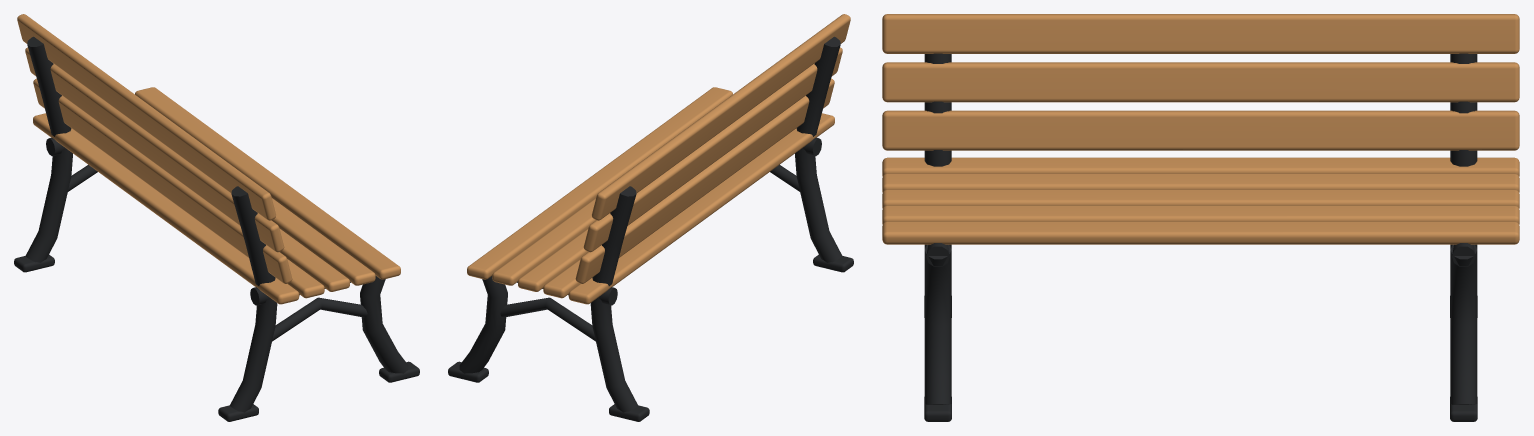
Rendered from street_bench.glb.
3 views of the same model, side by side, from view 1: azimuth 30°, elevation 25°; view 2: azimuth 150°, elevation 25°; view 3: azimuth 270°, elevation 25° (orthographic). The views are drawn at different scales.
Visible parts, largest first — view 1: Back2, Seat4, Back0, Seat0, Back1, BackLeg0.66, BackLeg-0.66, Seat3, Leg-0.66, Seat2, Brace-0.66, Seat1 (+3 smaller); view 2: Back2, Seat4, Back0, Seat0, Back1, BackLeg-0.66, BackLeg0.66, Seat3, Leg0.66, Seat2, Brace0.66, Seat1 (+3 smaller); view 3: Back1, Back0, Back2, Seat4, Seat1, Seat2, Seat3, Seat0, Leg0.66, Leg-0.66, BackLeg0.66, BackLeg-0.66.
Boxes of the visible parts, <box> form: Back2: <box>17,14,275,220</box>; Seat4: <box>135,87,400,279</box>; Back0: <box>33,78,292,283</box>; Seat0: <box>33,113,299,304</box>; Back1: <box>25,47,284,252</box>; BackLeg0.66: <box>25,36,72,262</box>; BackLeg-0.66: <box>230,186,277,412</box>; Seat3: <box>271,198,375,285</box>; Leg-0.66: <box>360,276,408,373</box>; Seat2: <box>279,228,349,291</box>; Brace-0.66: <box>272,297,367,341</box>; Seat1: <box>287,259,324,298</box>; Back2: <box>592,14,850,220</box>; Seat4: <box>467,87,732,279</box>; Back0: <box>575,78,834,283</box>; Seat0: <box>568,113,834,304</box>; Back1: <box>583,47,842,252</box>; BackLeg-0.66: <box>795,36,842,262</box>; BackLeg0.66: <box>590,186,637,412</box>; Seat3: <box>492,198,596,285</box>; Leg0.66: <box>459,276,507,373</box>; Seat2: <box>518,228,588,291</box>; Brace0.66: <box>500,297,595,341</box>; Seat1: <box>543,259,580,298</box>; Back1: <box>882,62,1519,102</box>; Back0: <box>882,110,1519,150</box>; Back2: <box>882,14,1519,53</box>; Seat4: <box>882,221,1519,244</box>; Seat1: <box>882,173,1519,192</box>; Seat2: <box>882,189,1519,208</box>; Seat3: <box>882,205,1519,224</box>; Seat0: <box>882,157,1519,176</box>; Leg0.66: <box>1450,244,1477,404</box>; Leg-0.66: <box>924,244,951,404</box>; BackLeg0.66: <box>1450,53,1477,248</box>; BackLeg-0.66: <box>924,53,951,248</box>.
Bounding box in the file's own units: 0.72 × 0.8383 × 1.6.
